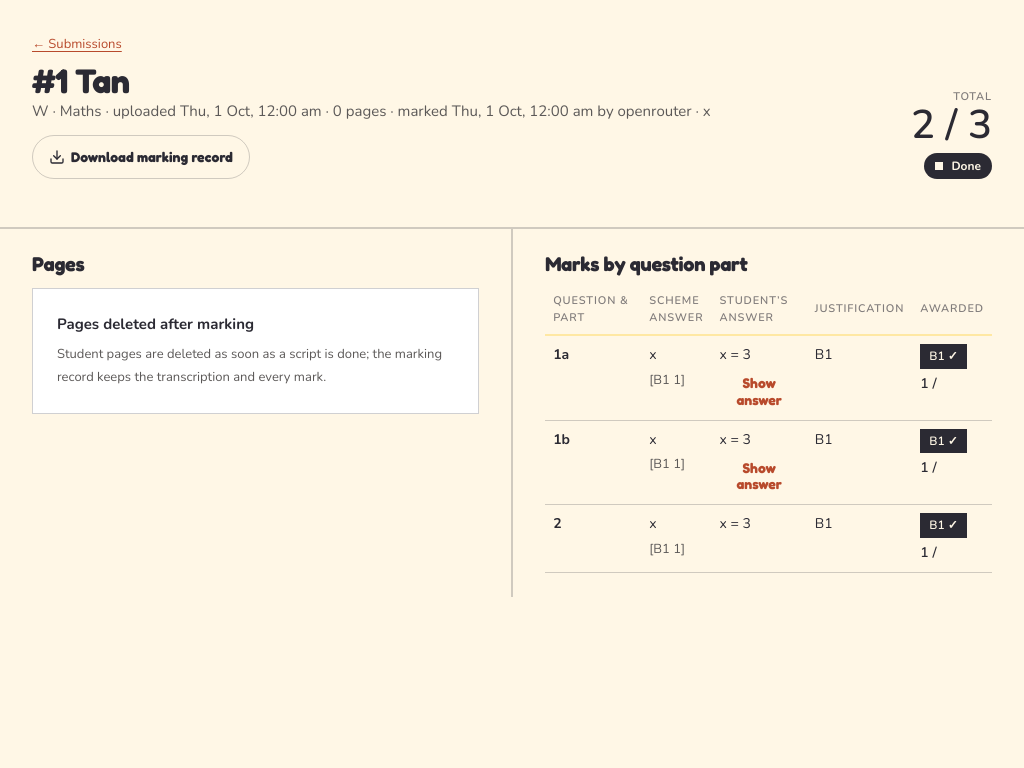
Test: answer crops › shows the cropped answer for a part on request, and says when it is a whole page
This screenshot has width=1024, height=768.
Click the button "Show answer" below "1b" at (759, 476), box [720,456,799,496]
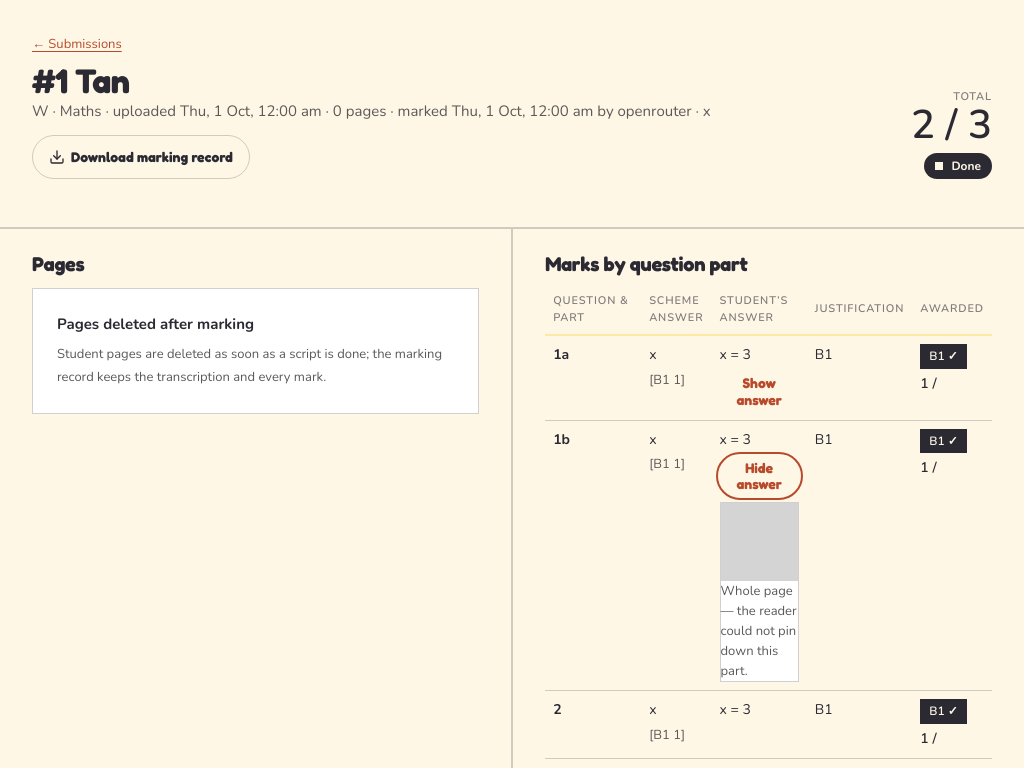
Expected: the text "Whole page — the reader could not pin down this part." is shown, [720,581,798,681]
Expected: the button "Hide answer" is shown, [720,456,799,496]
